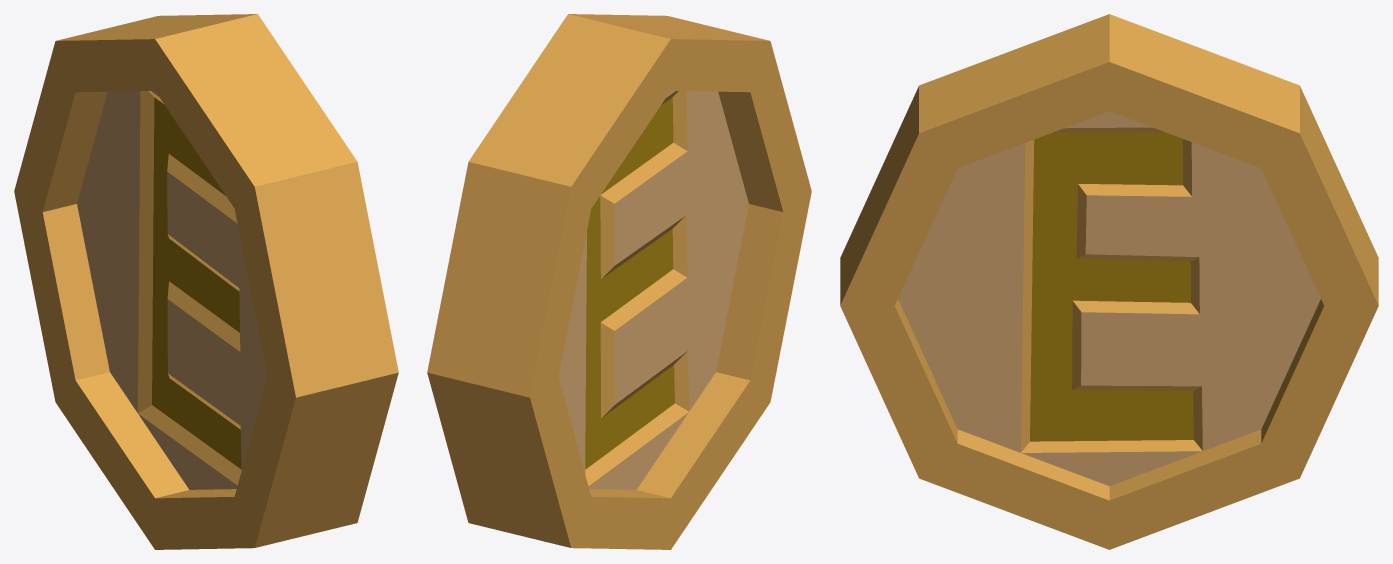
Rendered from eshop.fbx.
The picture shows the model from 3 angles, left to right: view 1: azimuth 30°, elevation 25°; view 2: azimuth 150°, elevation 25°; view 3: azimuth 270°, elevation 25°; orthographic projection. The views are drawn at different scales.
Visible parts, largest first — view 1: Cylinder; view 2: Cylinder; view 3: Cylinder.
Part boxes in pixels (<box>): Cylinder: <box>14,14,398,549</box>; Cylinder: <box>427,14,811,549</box>; Cylinder: <box>840,14,1378,549</box>.
Size of the model in its own units: 42.12 by 200 by 200.
